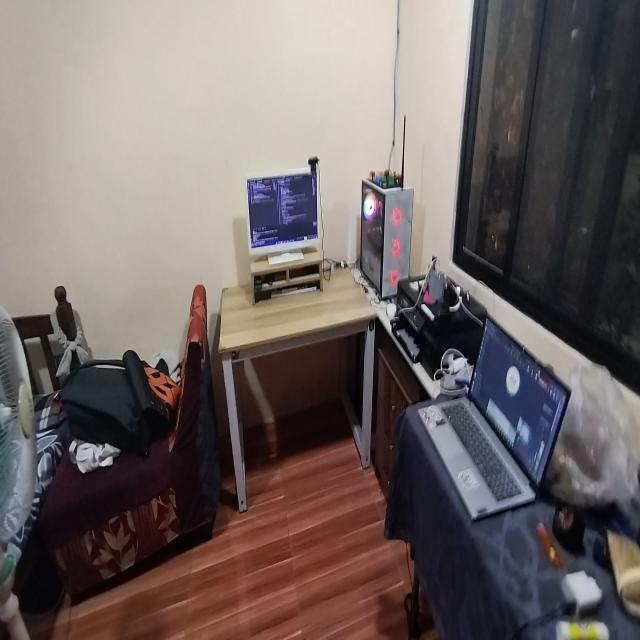table: (215, 262, 382, 514)
